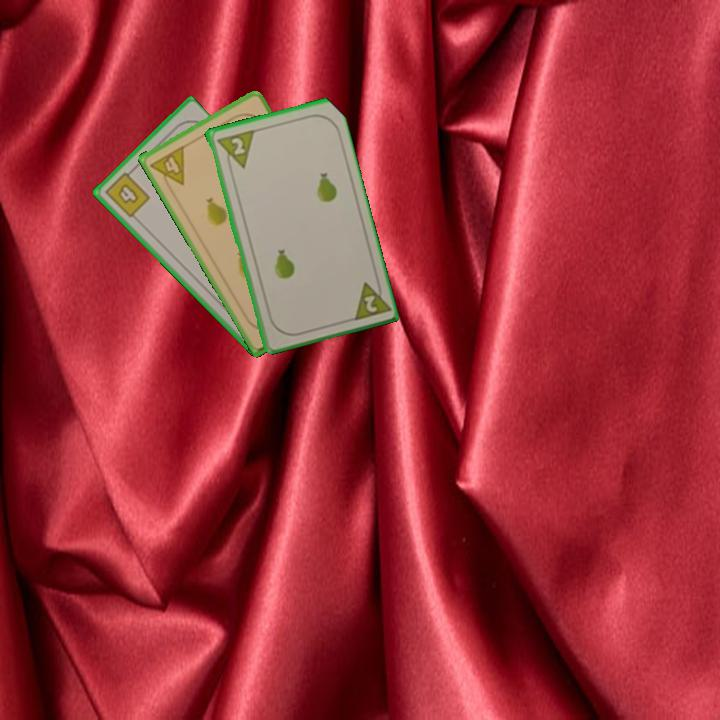2p: (348, 274, 392, 323), (227, 134, 247, 158)
4b: (101, 165, 153, 221)
4p: (146, 142, 187, 194)
